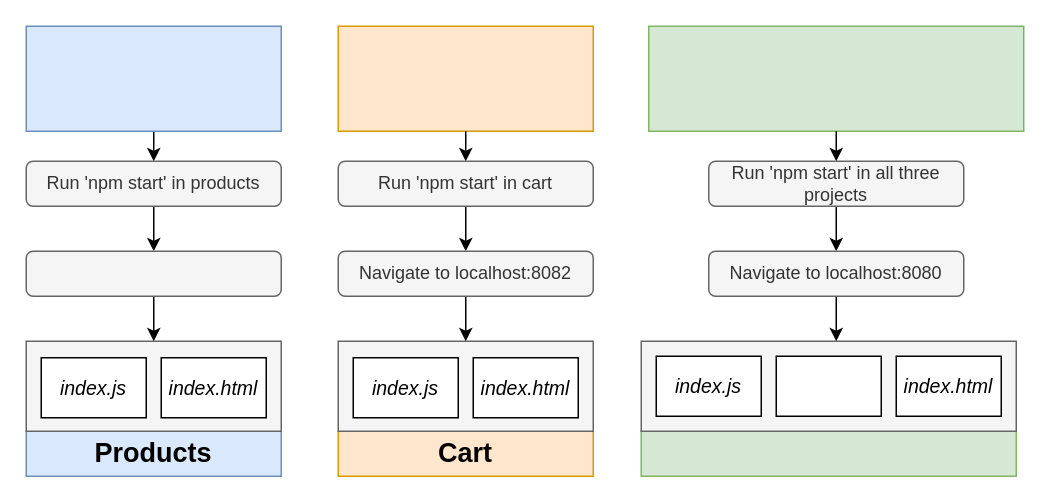
Image size: 1050x503. Some labels were removed from this diagram. The shapes that lost their labels are listed below. From the top down, each one's centre as x and y in pixels, then its label:
At pixel 153 78: "Team #1 in charge of Products".
At pixel 465 78: "Team #2 in charge of Cart".
At pixel 835 78: "Team #3 in charge of Container".
At pixel 153 273: "Navigate to localhost:8081".
At pixel 828 385: "bootstrap.js".
At pixel 828 453: "Container".
